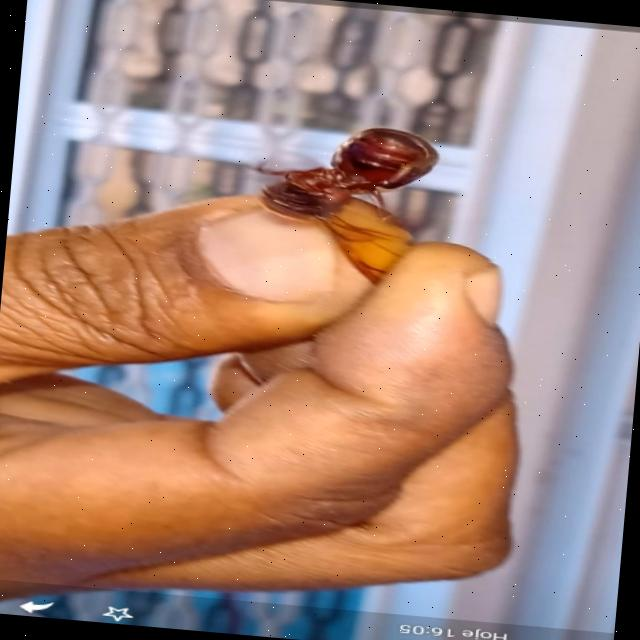Alive-Female-Alate: (242, 116, 474, 308)
